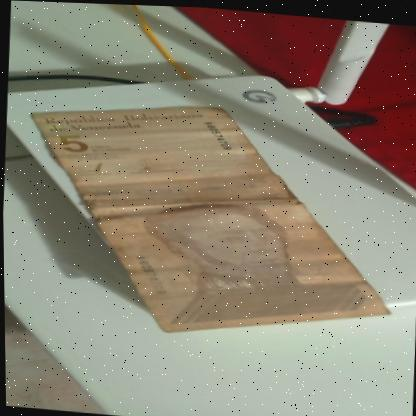five-front-vef: (18, 89, 400, 349)
